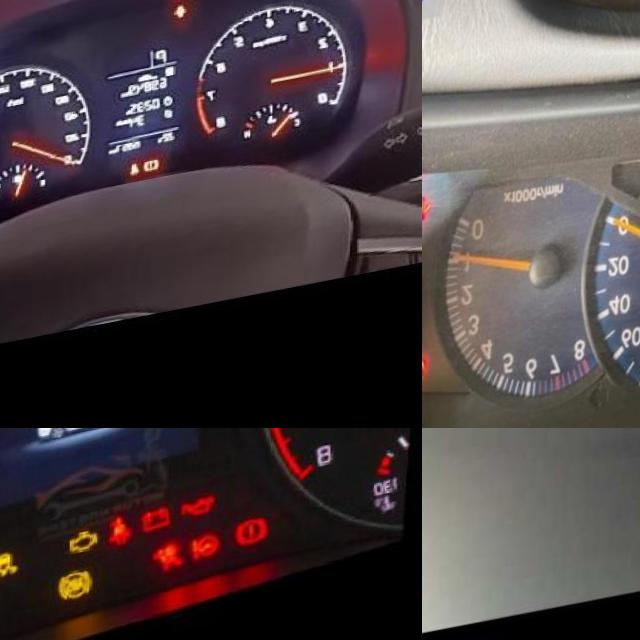Seat Belt: (113, 528, 141, 566)
